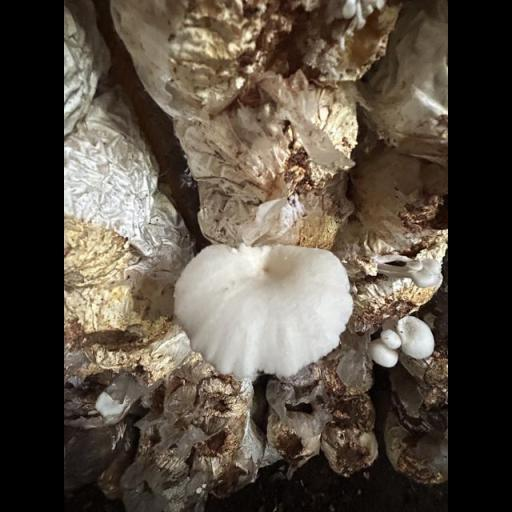White Oyster Mushroom: (168, 233, 360, 379)
